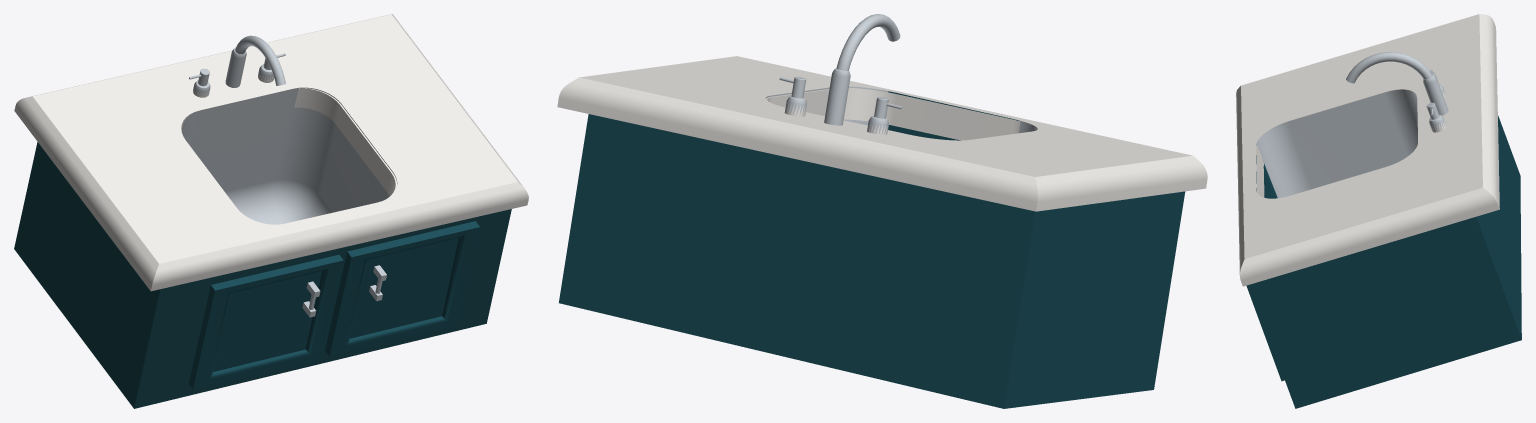
3 views of the same model, side by side, from view 1: azimuth 30°, elevation 25°; view 2: azimuth 150°, elevation 25°; view 3: azimuth 270°, elevation 25° (orthographic). The views are drawn at different scales.
Visible parts, largest first — view 1: Object_2; view 2: Object_2; view 3: Object_2.
Boxes of the visible parts, box(x1,y1,x2,y2) form: Object_2: box(14, 14, 528, 408); Object_2: box(557, 14, 1207, 408); Object_2: box(1236, 14, 1521, 408).
Size of the model in its own units: 1 by 0.7323 by 0.6897.
